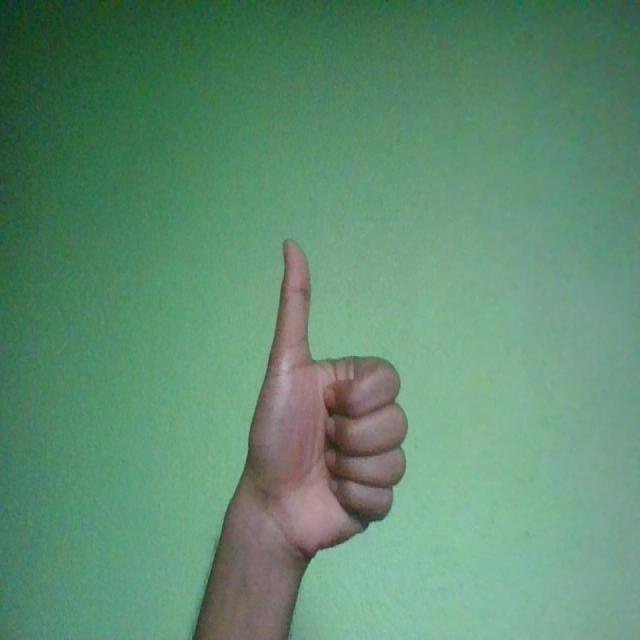Good Job: (246, 238, 409, 562)
